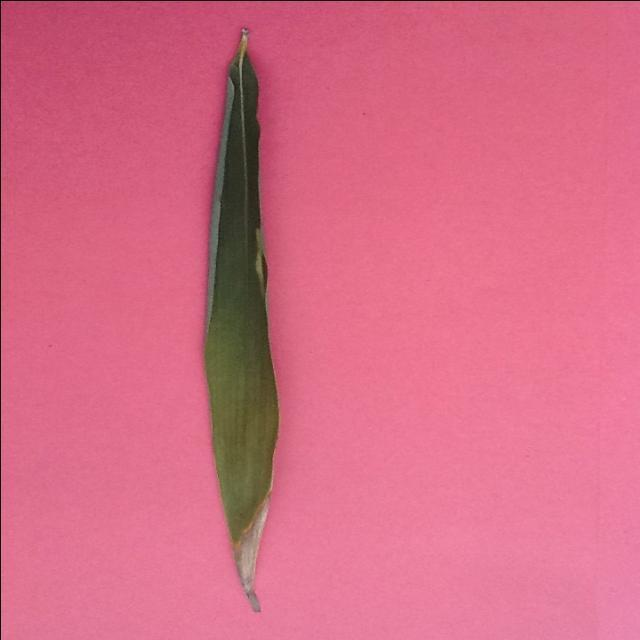foliage: (198, 28, 289, 614)
